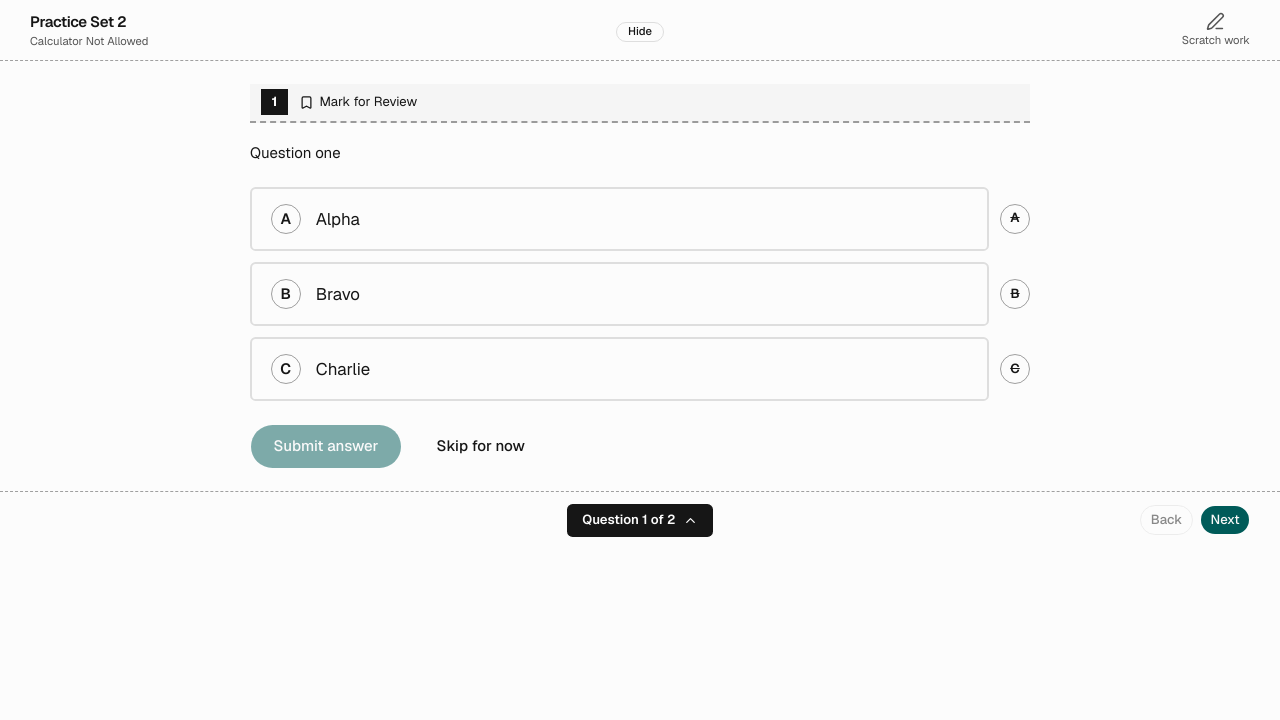
Test: SessionRunner — a session that can't go on › shows the reason and the way forward, and stops taking answers
Click the button "A Alpha": [338, 219] box [250, 187, 989, 251]
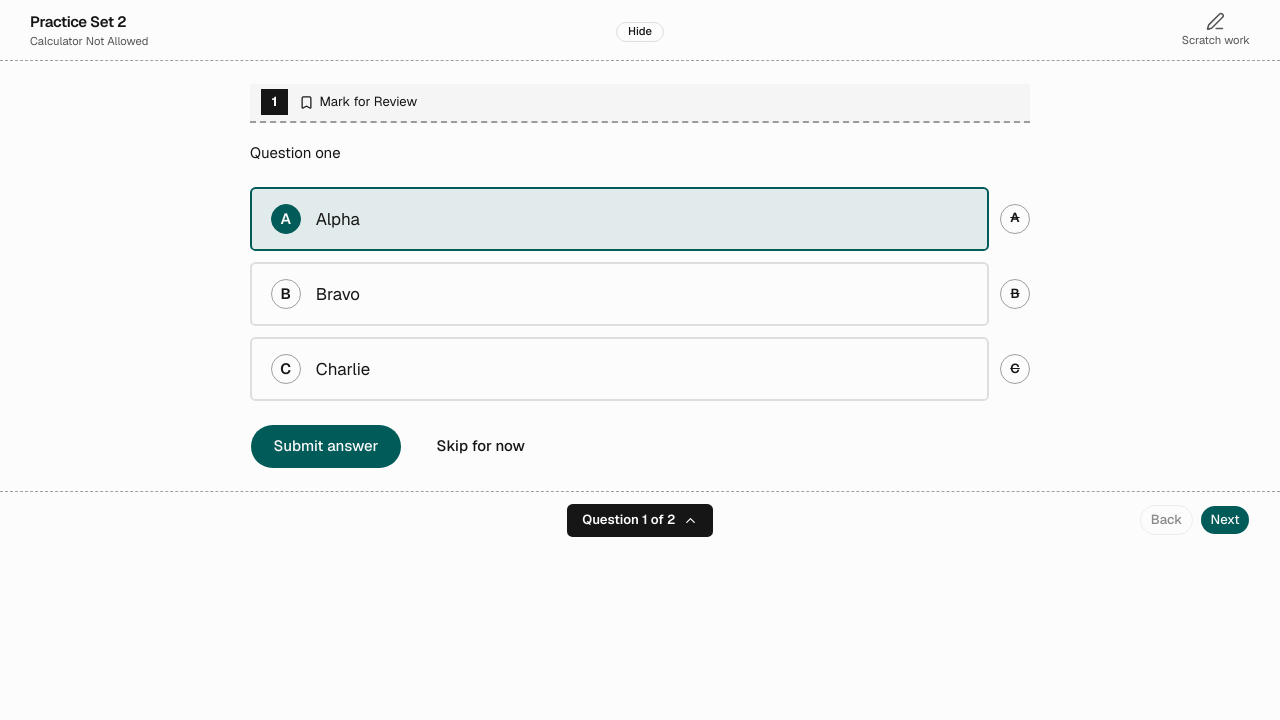
Click the button "Submit answer": [326, 446] box [250, 424, 402, 469]
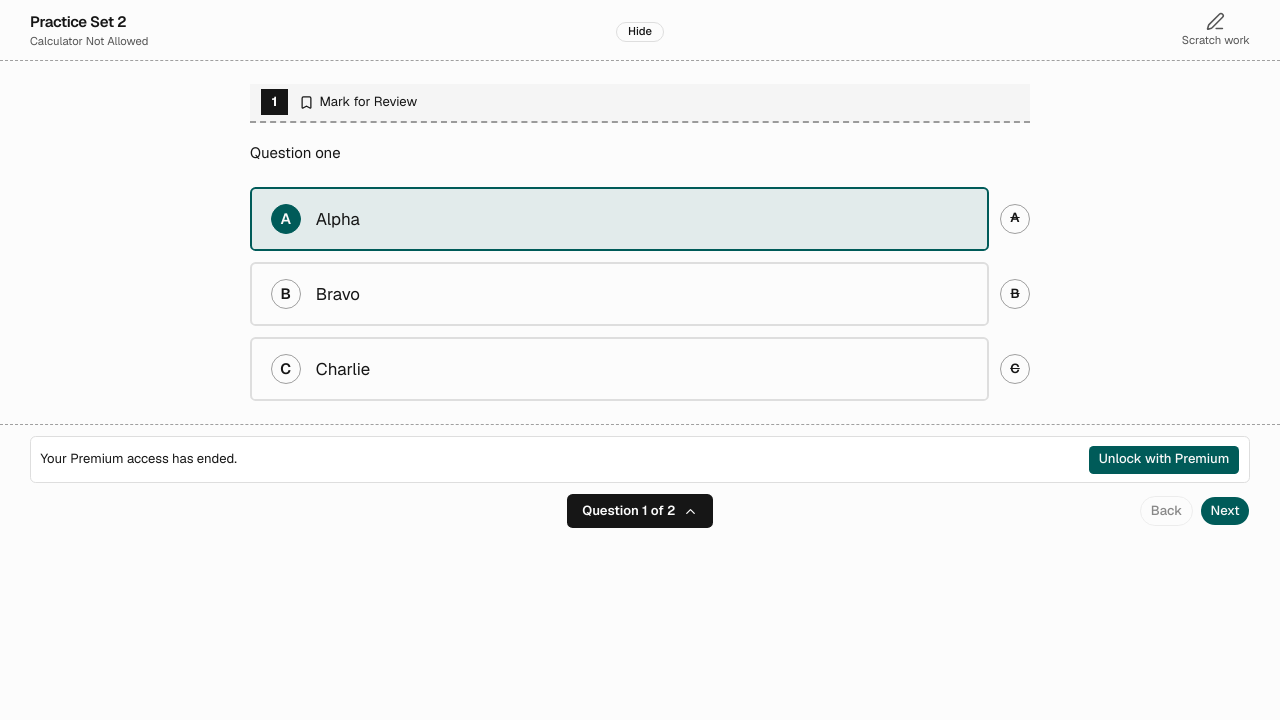
Now the text "Your Premium access has ended." is shown, box [40, 450, 237, 469]
Now the button "Submit answer" is gone
